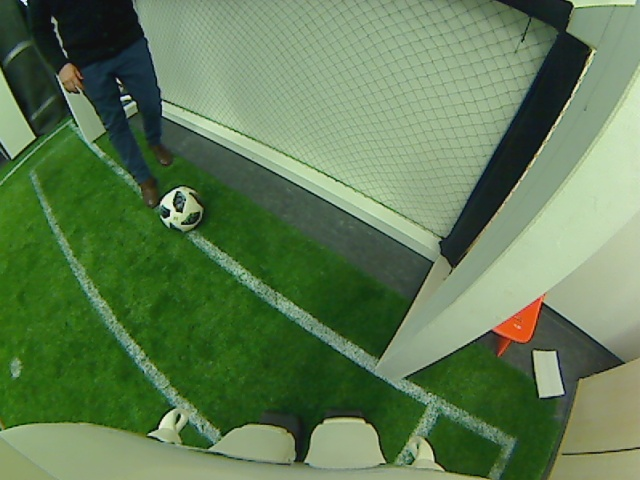ball: (153, 184, 203, 234)
